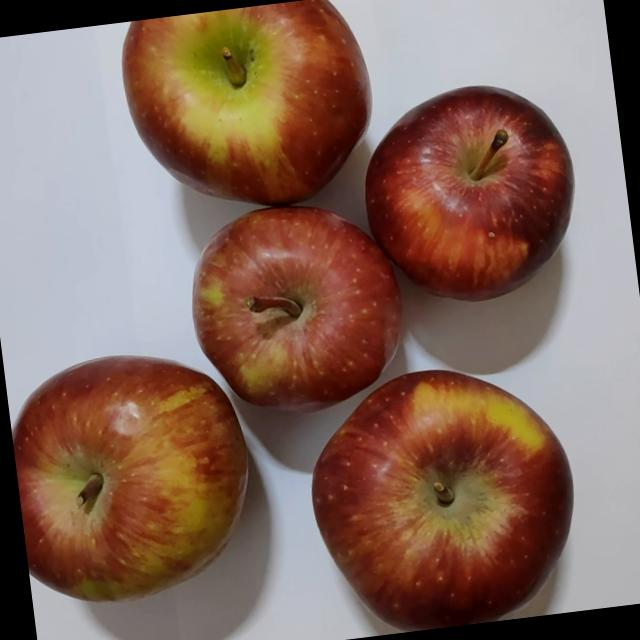apple: (299, 357, 595, 640), (4, 342, 282, 628), (119, 0, 402, 243), (353, 80, 600, 335), (180, 195, 430, 444)
